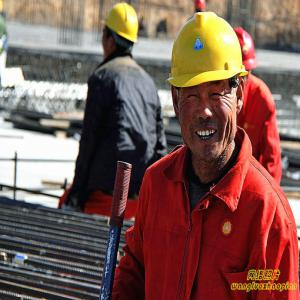red: (233, 25, 258, 88), (194, 2, 207, 16)
yellow: (167, 11, 246, 170), (96, 4, 141, 60)
